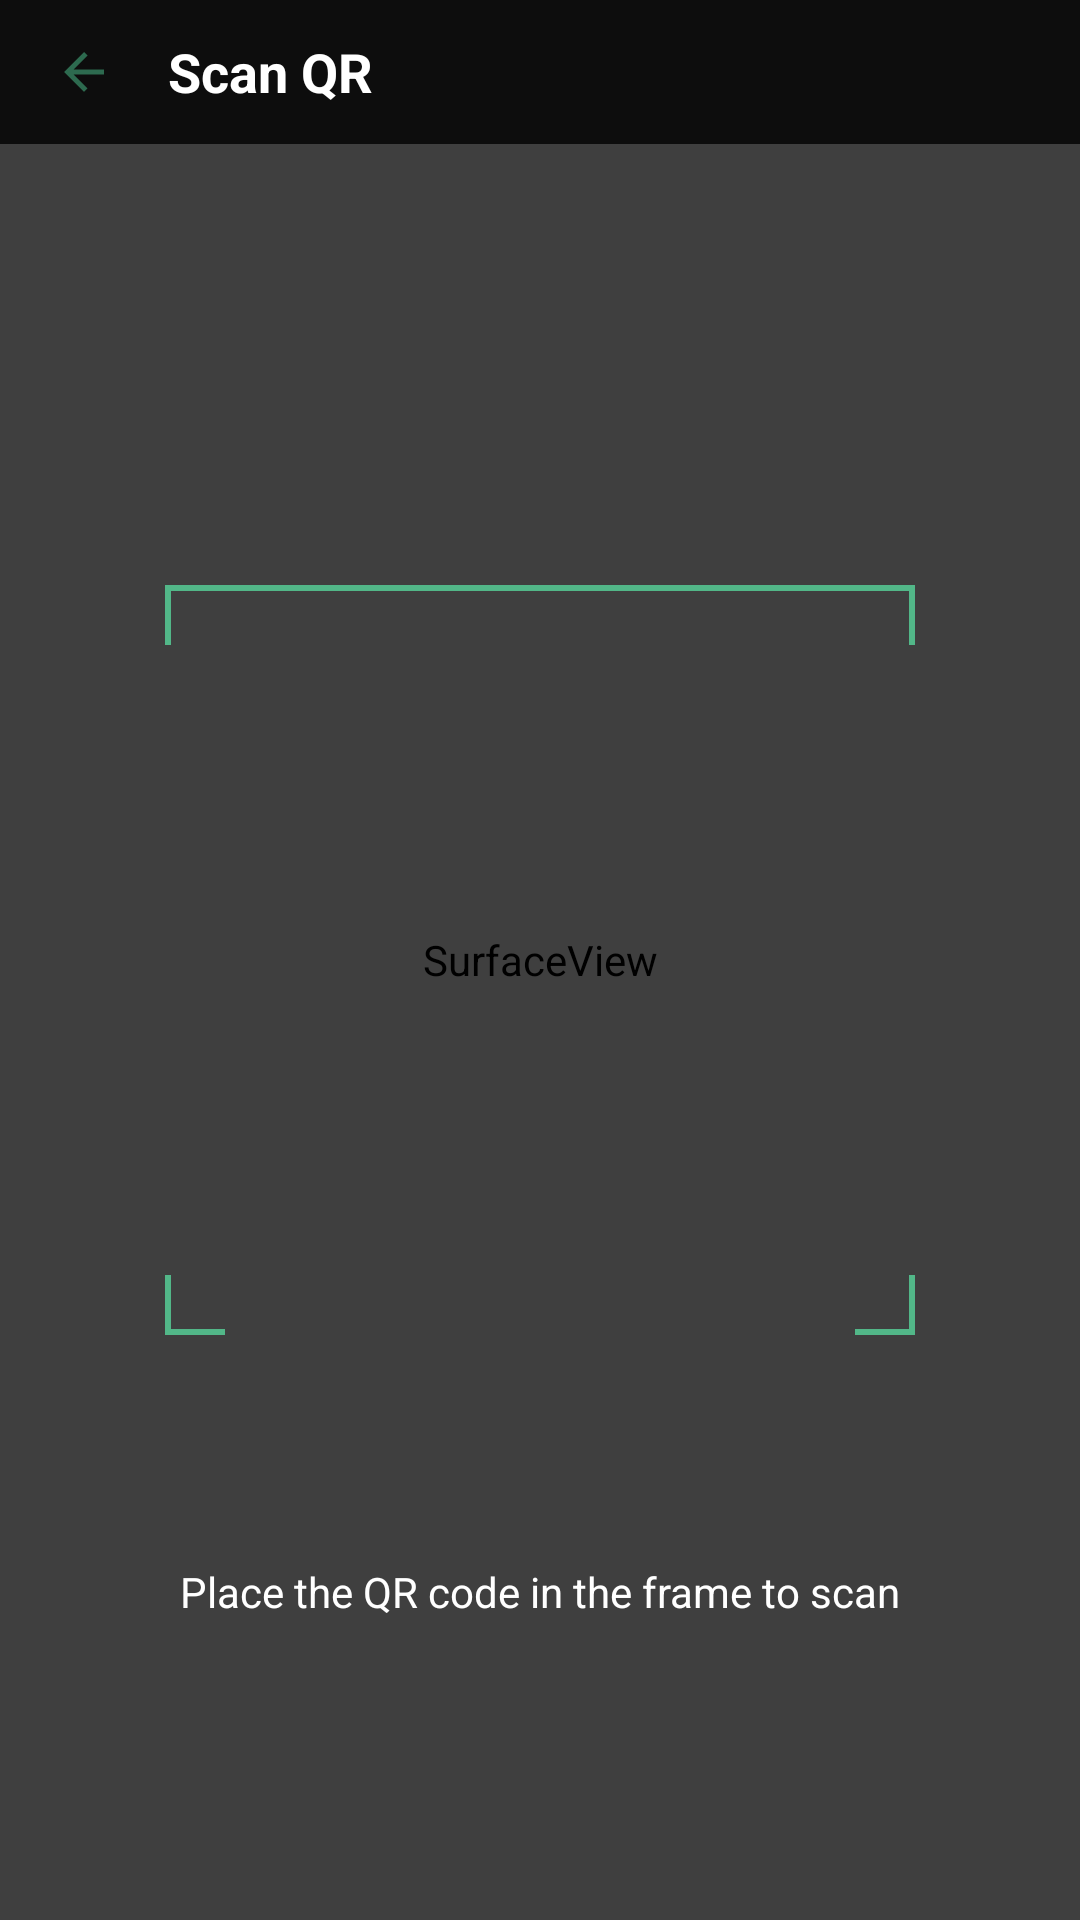

Icons on this 1080px×1920px Android screen, each with its box as (x1=x1, y1=y1, x2=x2, y2=y2):
back: (x1=64, y1=52, x2=104, y2=92)
